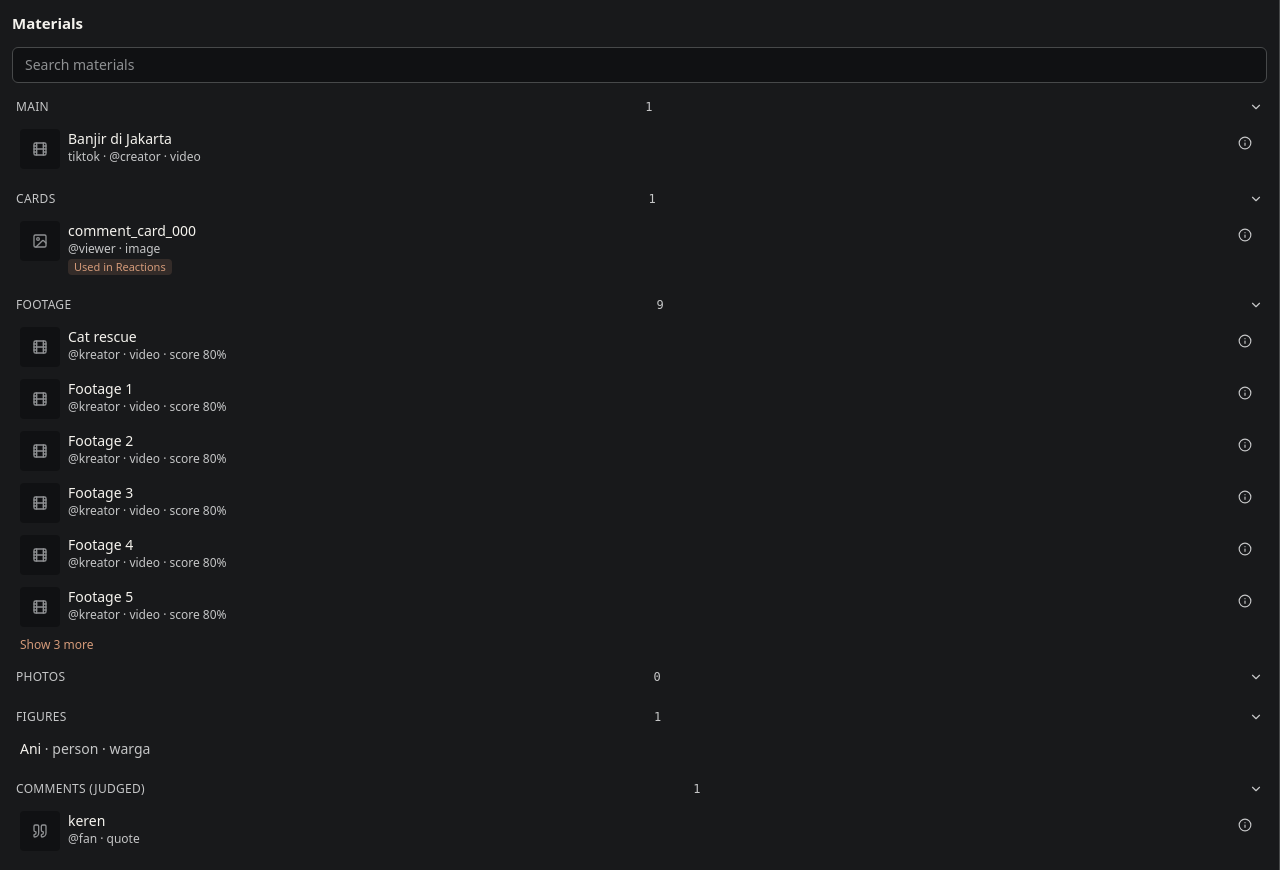
the why popover says what the run knew
What coordinates should you click on to do the following:
click the button named "Why this material" in the row of "Cat rescue"
I would click on:
 (1245, 341)
Its box is left=1231, top=327, right=1259, bottom=355.
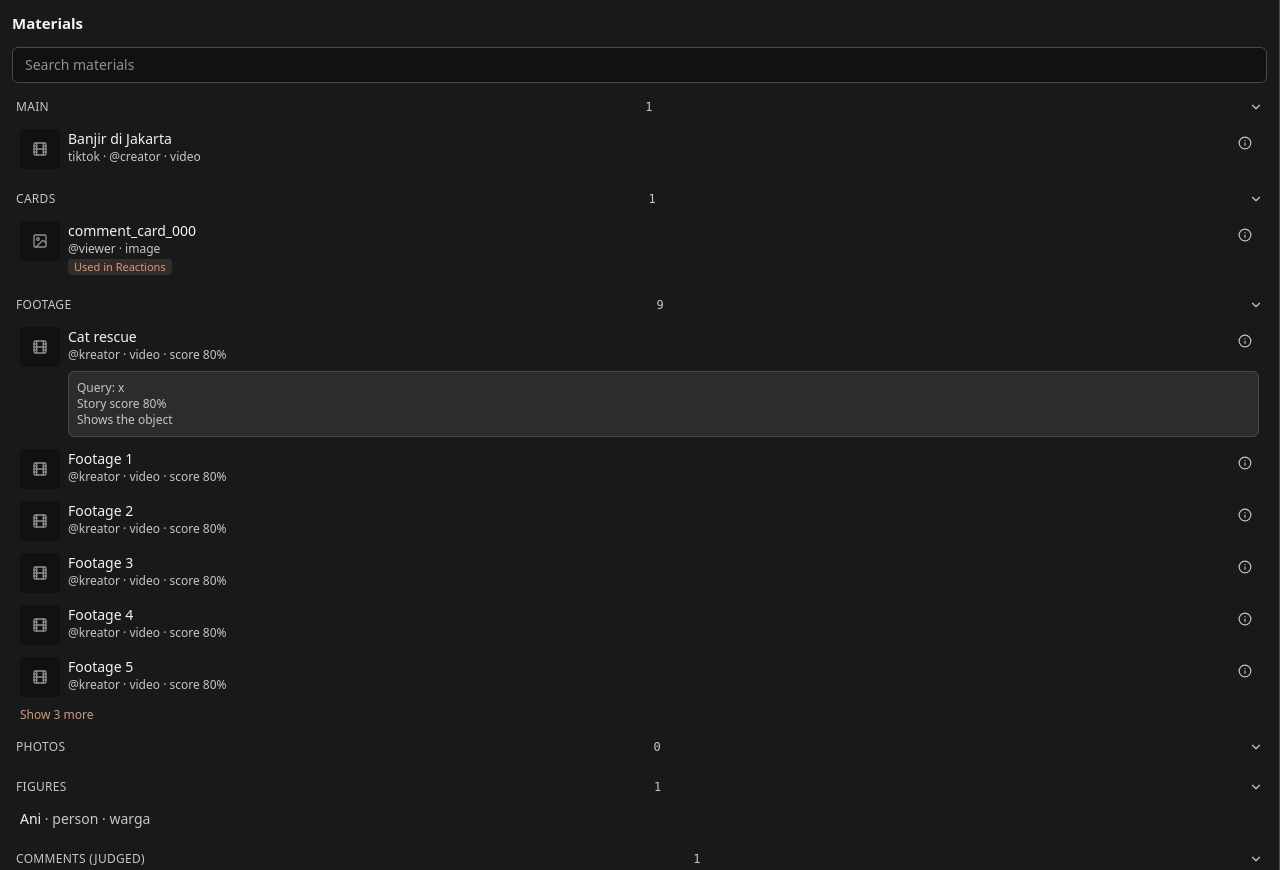
Check: the element showing "Query: x Story score 80% Shows the object" is shown, box left=68, top=371, right=1259, bottom=437
What coordinates should you click on to do the following:
click the button named "Why this material" in the row of "tiktok · @creator · video"
I would click on:
 (1245, 142)
Its box is left=1231, top=128, right=1259, bottom=156.
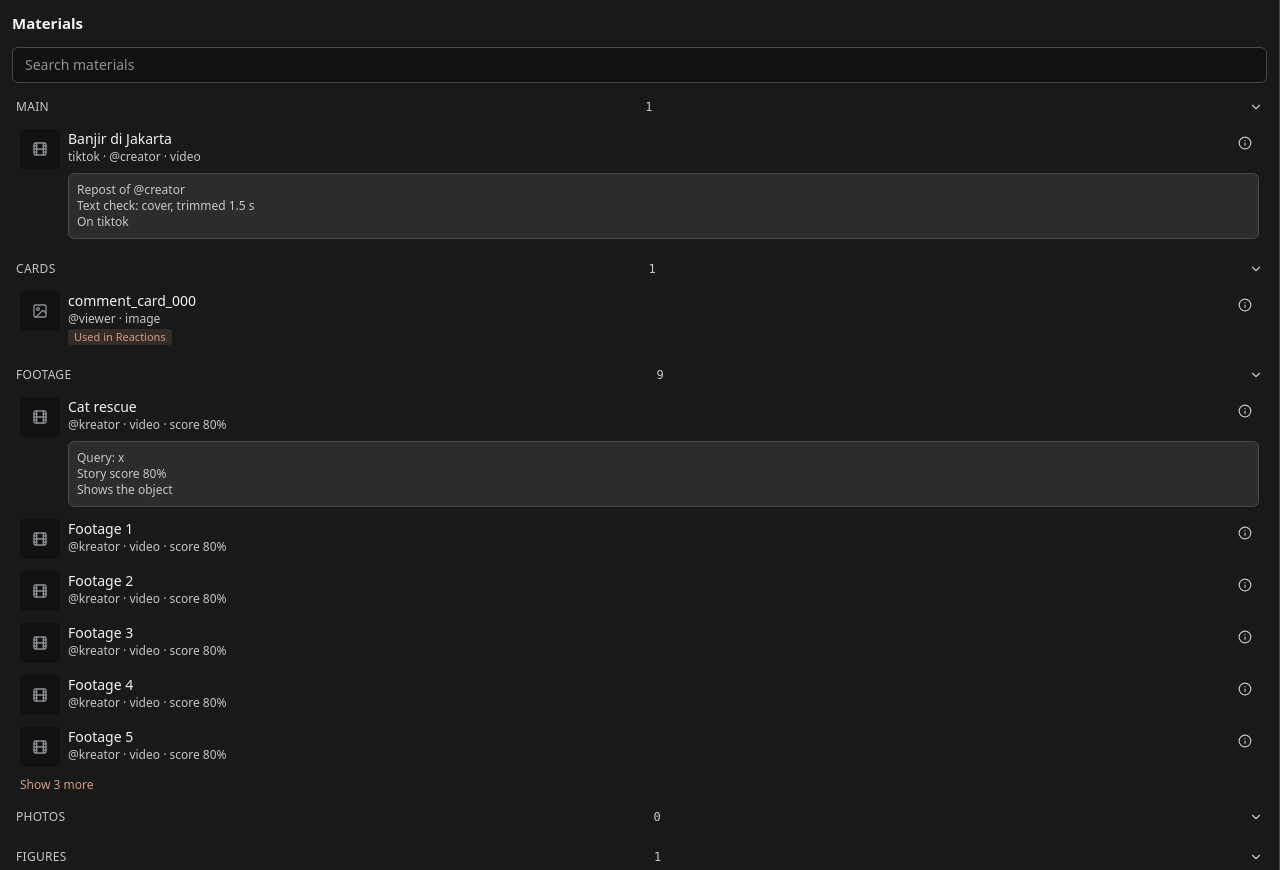
Check: the element that starts with "Repost of @creator" is shown, box left=77, top=180, right=185, bottom=198
Check: the element that starts with "Repost of @creator" shows "trimmed 1.5 s", box left=77, top=196, right=254, bottom=214
